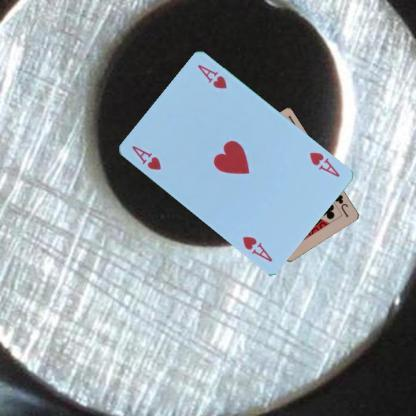Ah: (306, 149, 341, 179), (128, 142, 162, 172)
Jc: (332, 192, 350, 219)
